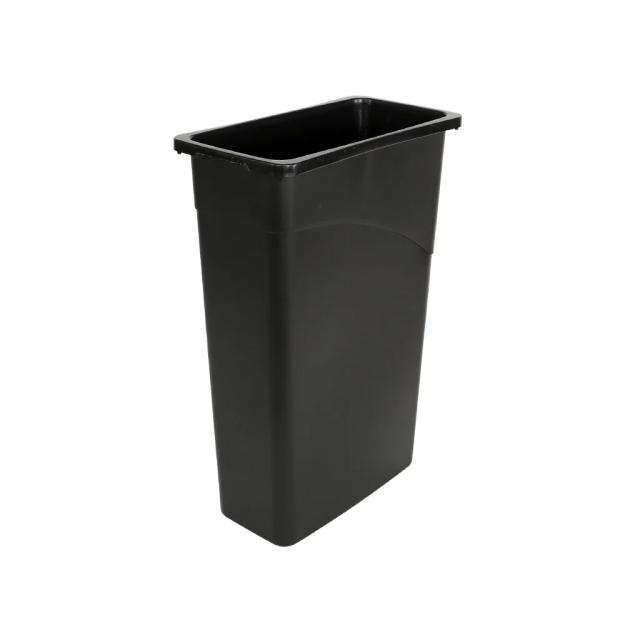garbage container: (165, 88, 468, 552)
